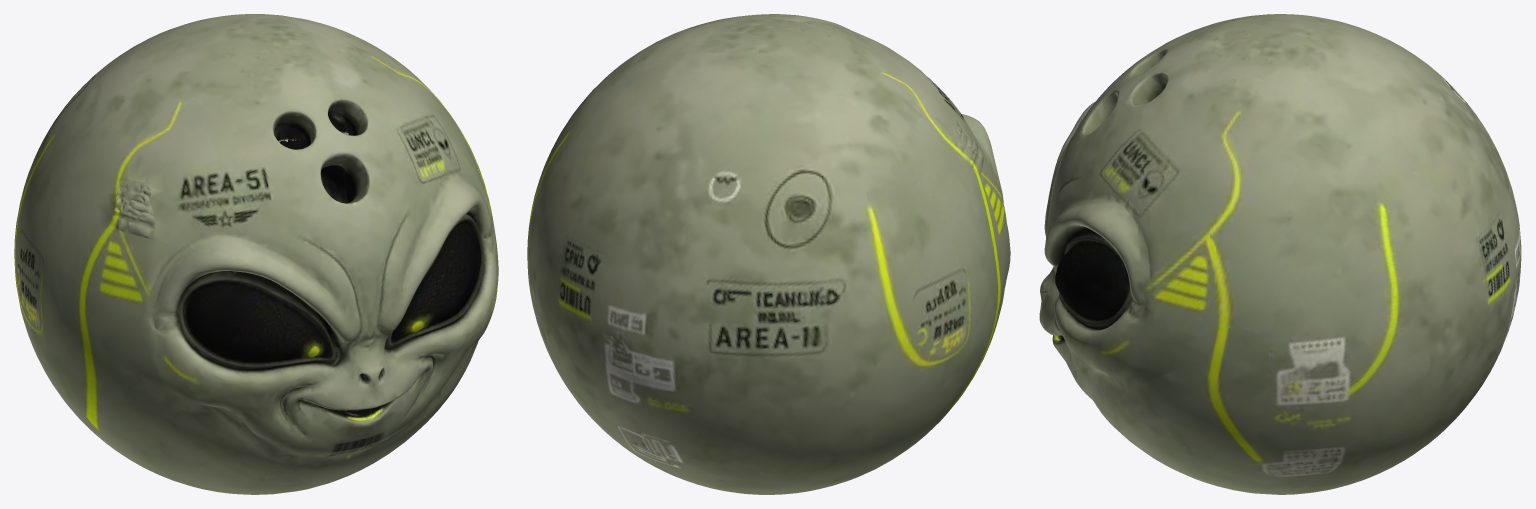
File: ufo.glb
3 renders of one model, left to right at view 1: azimuth 30°, elevation 25°; view 2: azimuth 150°, elevation 25°; view 3: azimuth 270°, elevation 25°, orthographic.
Visible parts, largest first — view 1: mesh_node; view 2: mesh_node; view 3: mesh_node.
Part boxes in pixels (left/top/right/bottom): mesh_node: left=14, top=14, right=498, bottom=494; mesh_node: left=527, top=14, right=1010, bottom=494; mesh_node: left=1039, top=14, right=1521, bottom=494.
Bounding box in the file's own units: 1.9 × 1.9 × 1.9.
Materials: 1 (1 with a texture image).
